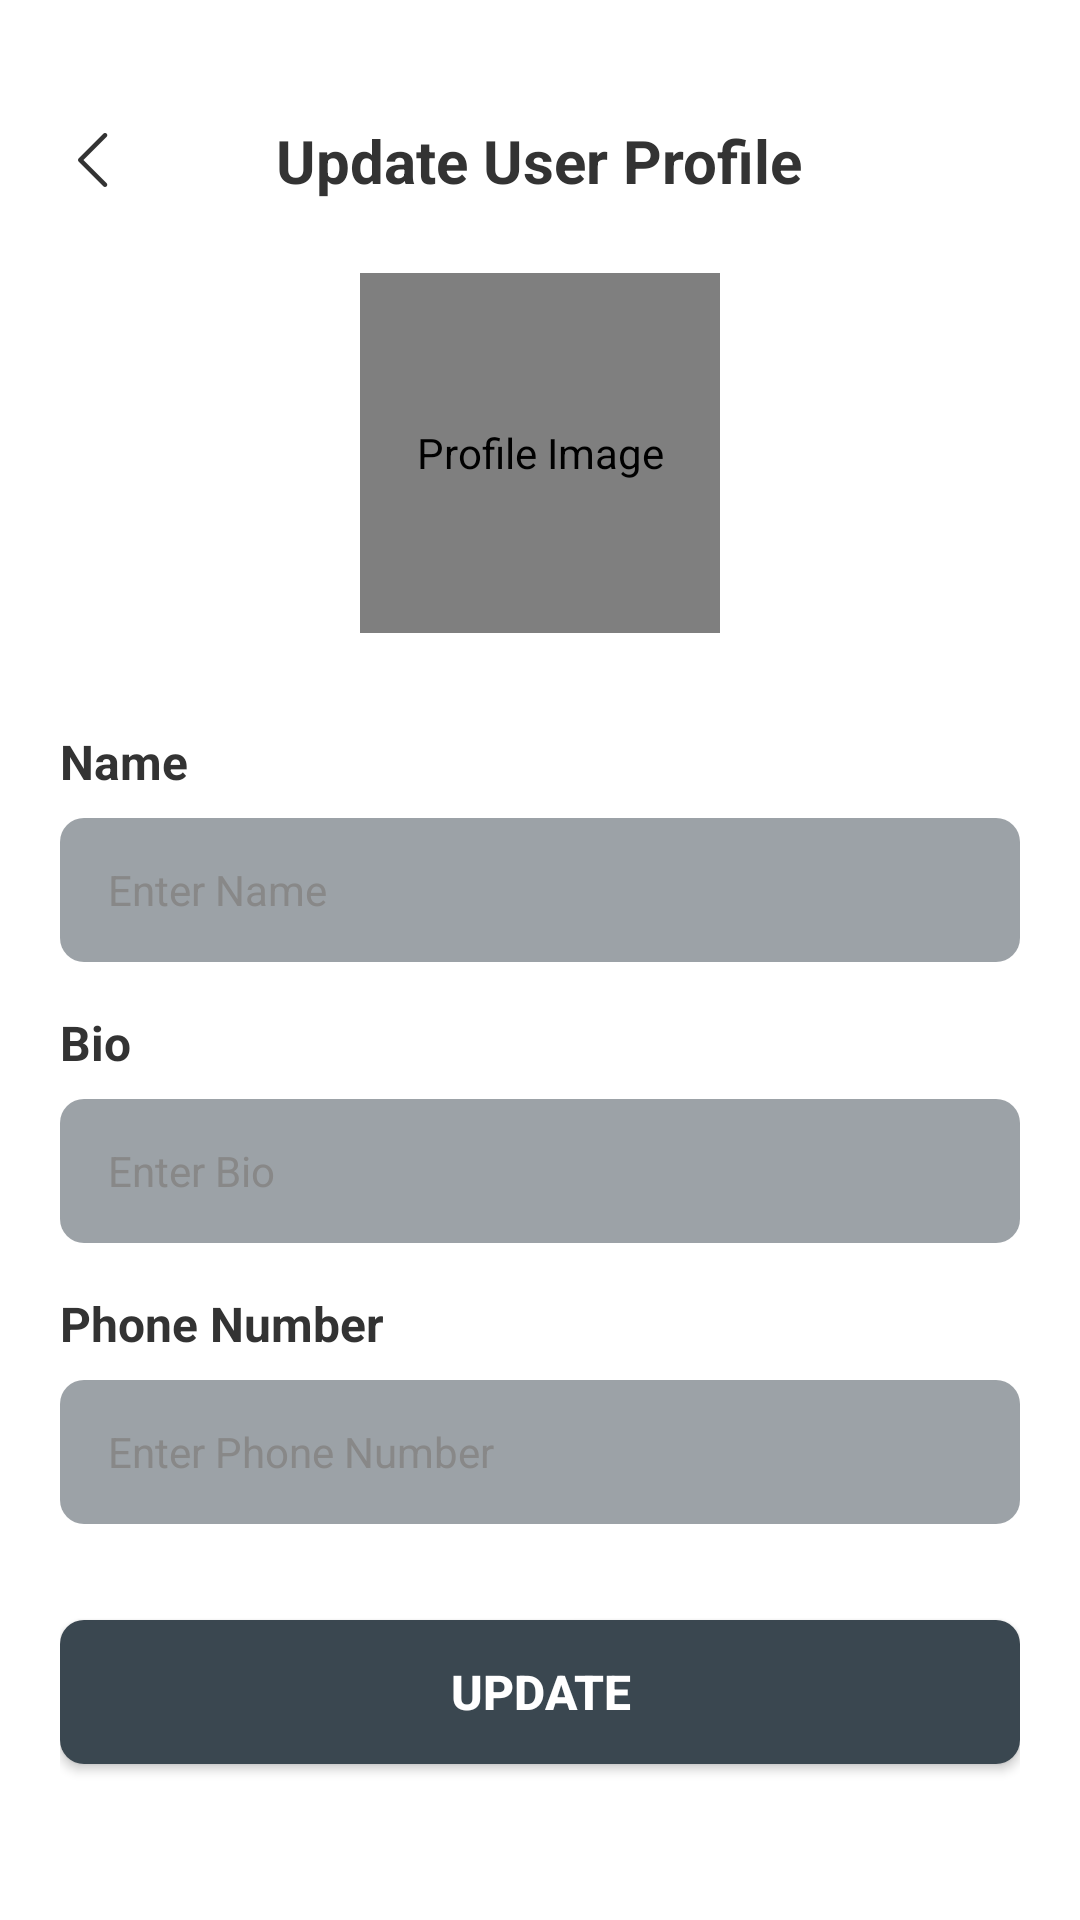

Named icons in this screenshot (1080px×1920px) and their centers, [x,y]:
Back: [93,160]
